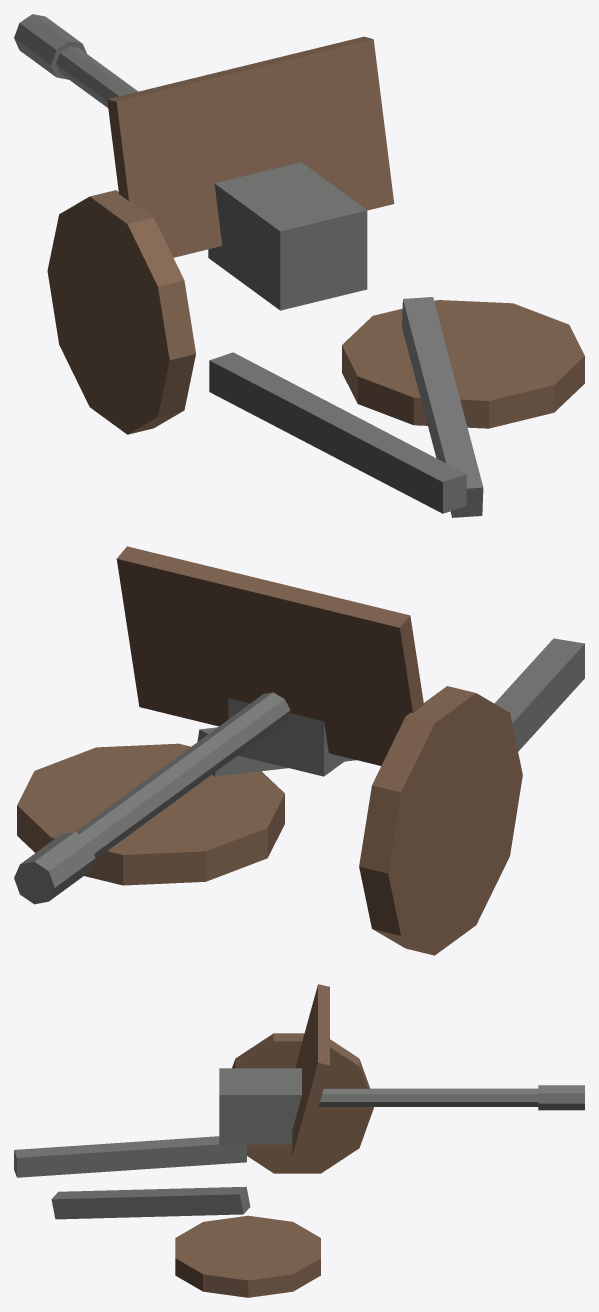
The model's file is field_gun_wrecked.glb.
The picture shows the model from 3 angles, top to bottom: view 1: azimuth 30°, elevation 25°; view 2: azimuth 150°, elevation 25°; view 3: azimuth 270°, elevation 25°; orthographic projection. The views are drawn at different scales.
Parts seen in each view (by area): view 1: field_gun_wrecked; view 2: field_gun_wrecked; view 3: field_gun_wrecked.
Part boxes in pixels (<box>): field_gun_wrecked: <box>14,14,584,517</box>; field_gun_wrecked: <box>14,546,584,955</box>; field_gun_wrecked: <box>14,984,584,1297</box>.
Bounding box in the file's own units: 2.23 × 1.55 × 4.17.
